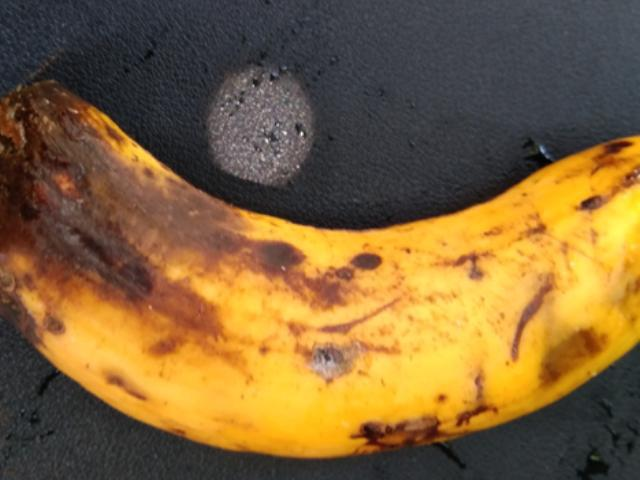rotten: (7, 54, 639, 456)
